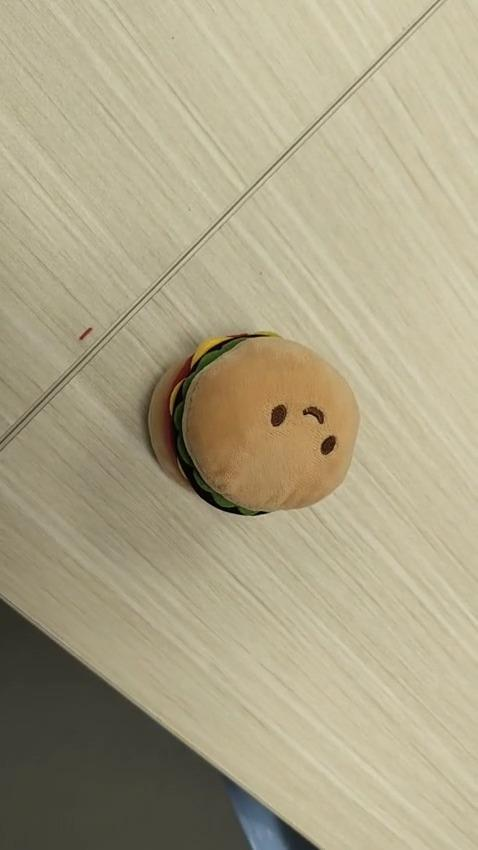hamburger: (146, 329, 360, 517)
